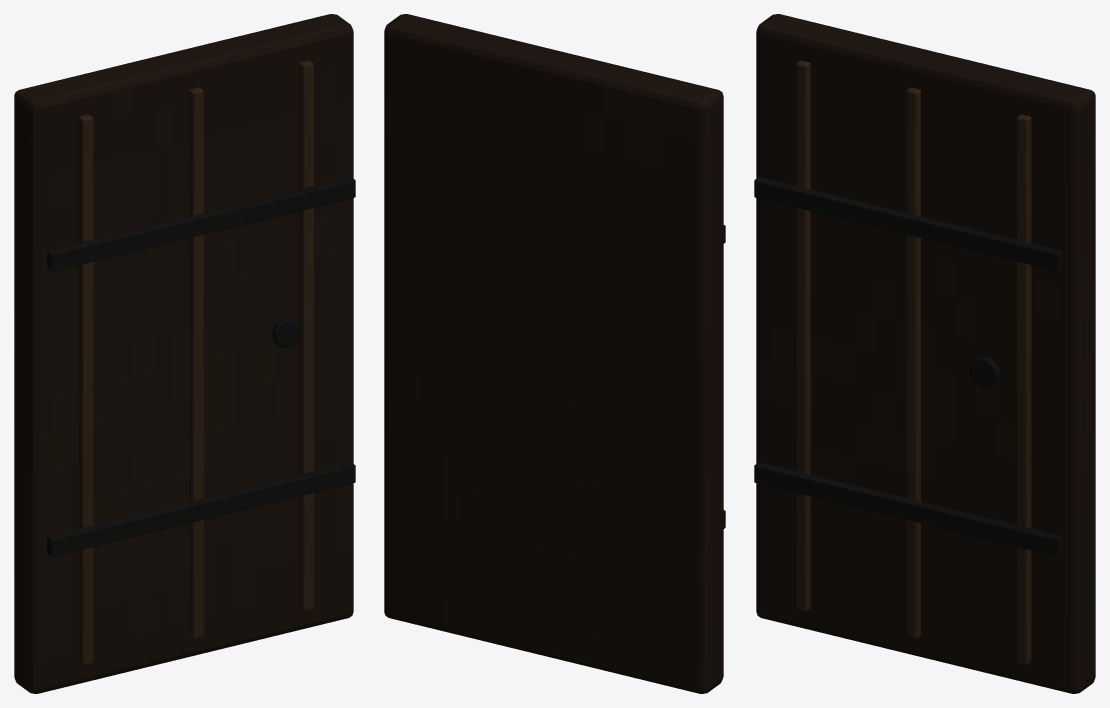
File: prop_town_door.glb
The picture shows the model from 3 angles, left to right: view 1: azimuth 30°, elevation 25°; view 2: azimuth 150°, elevation 25°; view 3: azimuth 330°, elevation 25°; orthographic projection.
Parts seen in each view (by area): view 1: oak, aged_oak, iron; view 2: oak; view 3: oak, aged_oak, iron.
Part boxes in pixels (x1,y1,x2,y2): oak: [14, 14, 353, 693]; aged_oak: [78, 60, 313, 665]; iron: [47, 177, 355, 556]; oak: [384, 14, 723, 693]; oak: [756, 14, 1095, 693]; aged_oak: [796, 60, 1031, 665]; iron: [754, 177, 1062, 556].
Bounding box in the file's own units: 1.6 × 2.8 × 0.2975.
3 materials, 3 textured.
